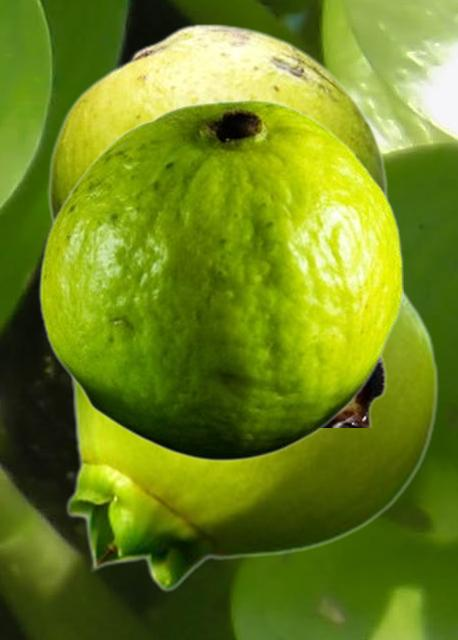guava: (47, 23, 388, 426), (38, 99, 402, 461), (65, 284, 438, 591)
